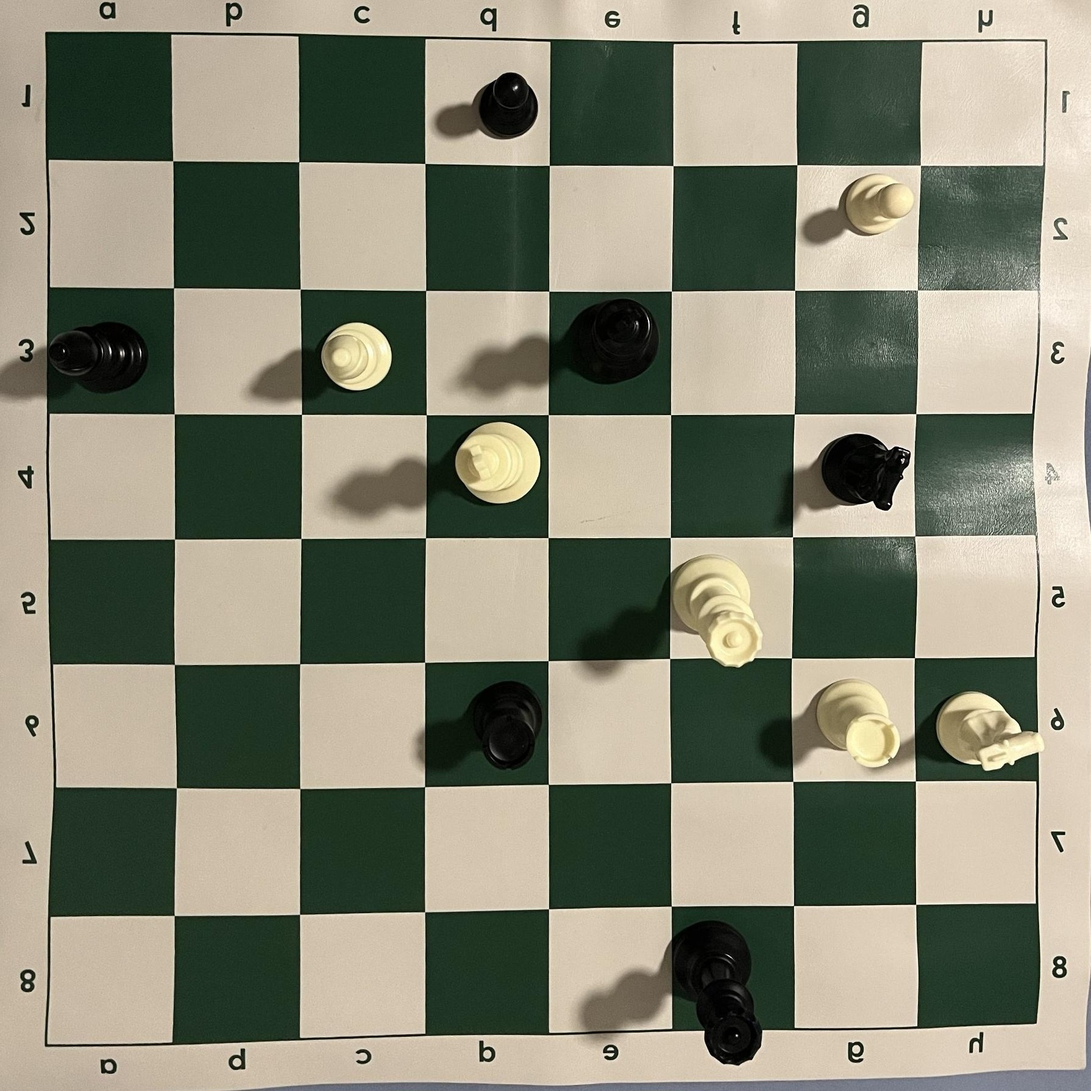black_bishop: (46, 321, 149, 393)
black_king: (564, 298, 660, 386)
black_knight: (819, 432, 912, 512)
black_pawn: (479, 71, 539, 139)
black_queen: (671, 920, 763, 1067)
black_rook: (471, 680, 545, 772)
white_bishop: (321, 322, 393, 393)
white_king: (454, 421, 542, 505)
white_knight: (934, 690, 1045, 773)
white_pawn: (843, 172, 916, 236)
white_queen: (670, 555, 764, 668)
white_rook: (816, 679, 902, 769)
